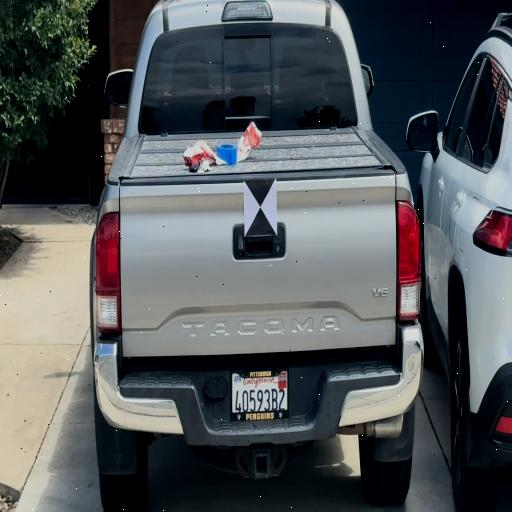target: (244, 181, 277, 234)
